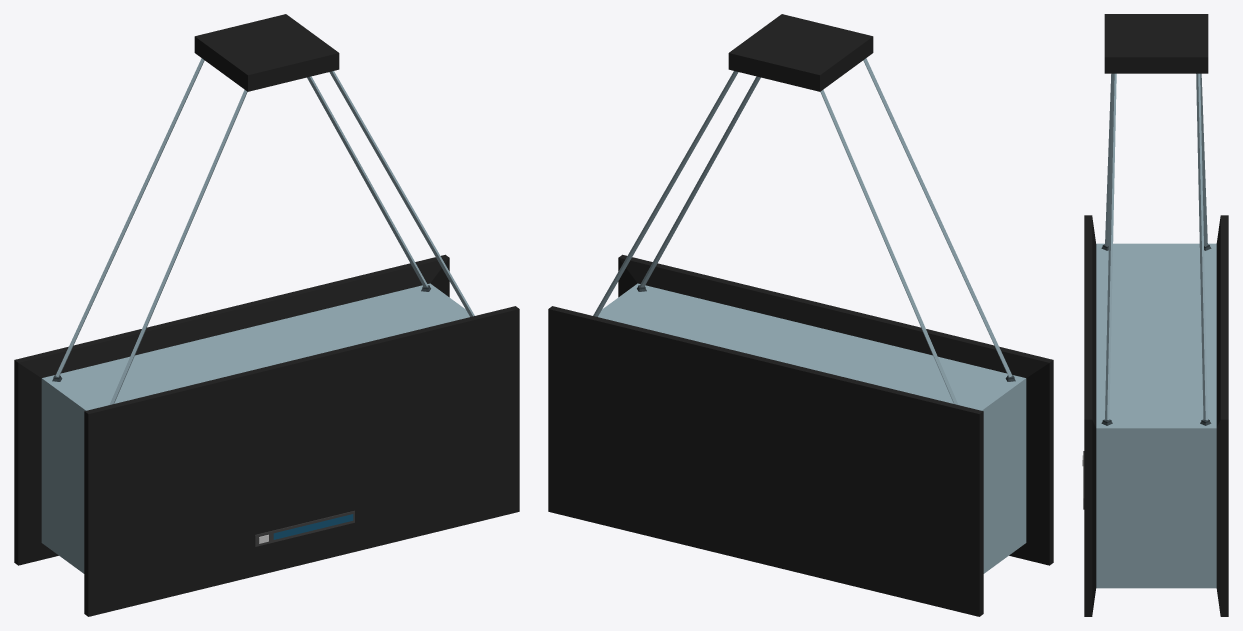
The model's file is KA-F600_Fan_V3.glb.
The picture shows the model from 3 angles, left to right: view 1: azimuth 30°, elevation 25°; view 2: azimuth 150°, elevation 25°; view 3: azimuth 270°, elevation 25°; orthographic projection. The views are drawn at different scales.
Parts seen in each view (by area): view 1: KA-F600_Fan_V3; view 2: KA-F600_Fan_V3; view 3: KA-F600_Fan_V3.
Boxes of the visible parts, x1,y1,x2,y2 form: KA-F600_Fan_V3: (14,14,519,616); KA-F600_Fan_V3: (548,14,1053,616); KA-F600_Fan_V3: (1082,14,1228,616).
Bounding box in the file's own units: 0.7413 × 0.8093 × 0.2236.
Materials: 1 (1 with a texture image).
